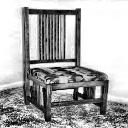chair_success: (13, 3, 116, 123)
